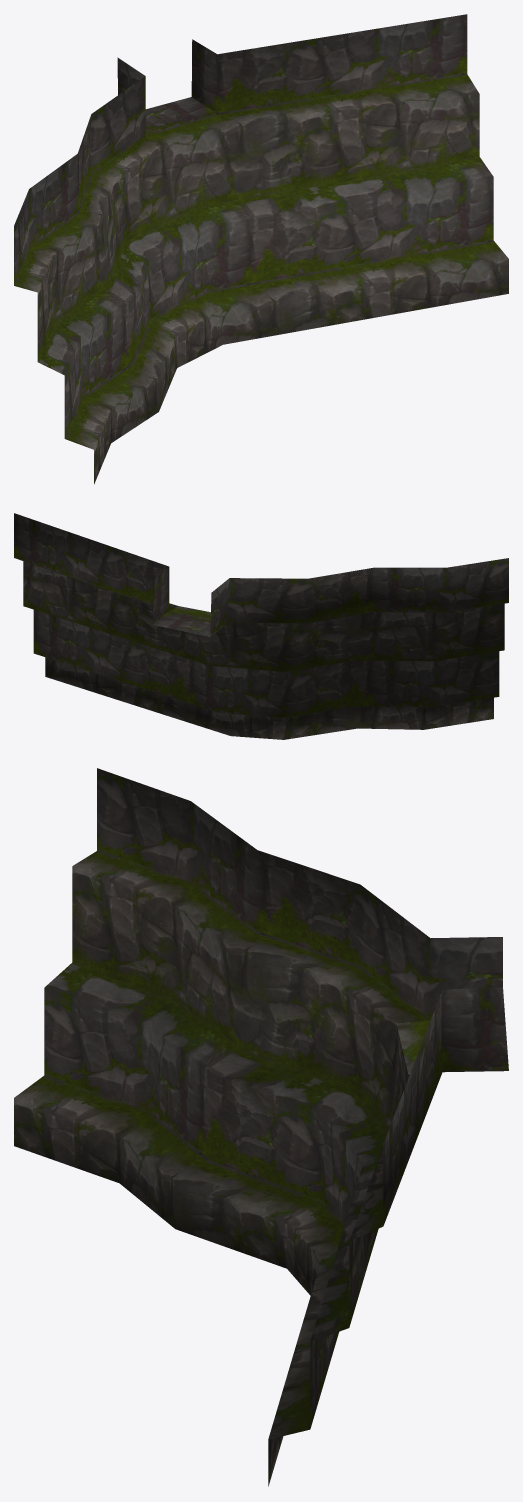
File: terrain_common_forest_guanka02_1.FBX
The picture shows the model from 3 angles, top to bottom: view 1: azimuth 30°, elevation 25°; view 2: azimuth 150°, elevation 25°; view 3: azimuth 270°, elevation 25°; orthographic projection. The views are drawn at different scales.
Parts seen in each view (by area): view 1: terrain_common_forest_guanka02_1; view 2: terrain_common_forest_guanka02_1; view 3: terrain_common_forest_guanka02_1.
Part boxes in pixels (box(x1,y1,x2,y2)): terrain_common_forest_guanka02_1: box(14, 14, 508, 484); terrain_common_forest_guanka02_1: box(14, 513, 508, 739); terrain_common_forest_guanka02_1: box(14, 768, 508, 1486).
Bounding box in the file's own units: 82.03 × 35.06 × 45.69.
